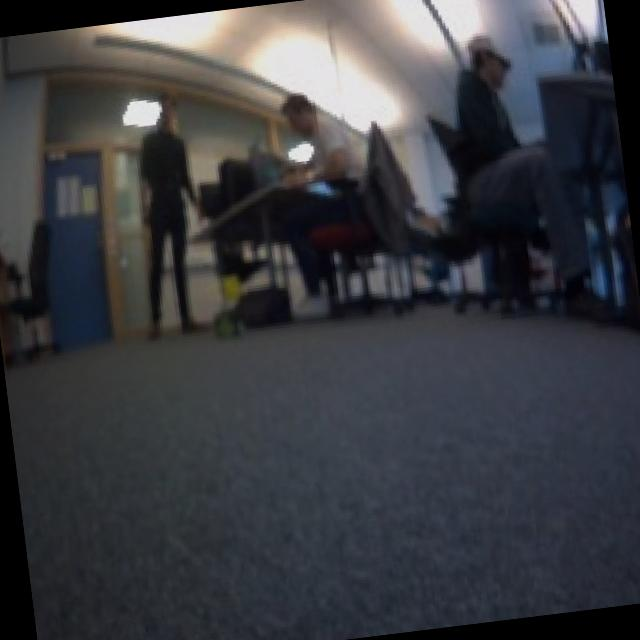robot: (208, 304, 250, 342)
